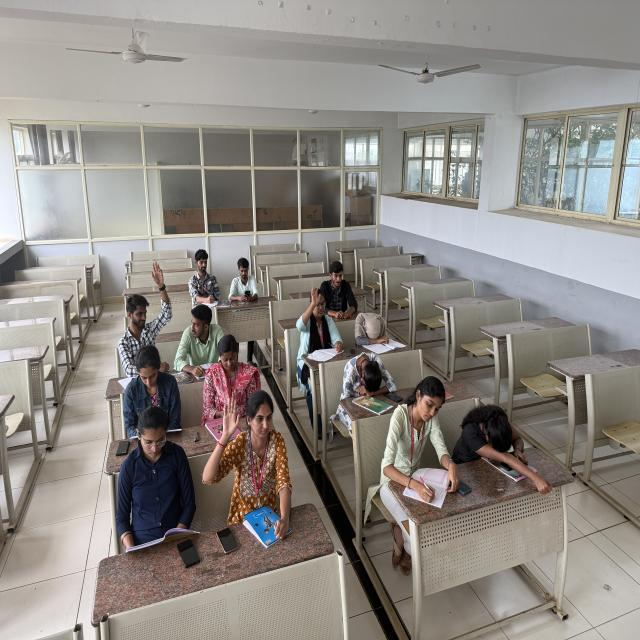Hand Rising: (215, 396, 291, 500), (107, 261, 175, 352), (290, 279, 344, 344)
Reading: (119, 418, 202, 542), (120, 357, 197, 438)
Sleeping: (467, 392, 527, 464), (339, 350, 398, 398), (351, 306, 406, 346)
Using Phone: (228, 254, 265, 308)
Writing: (390, 383, 453, 505), (187, 250, 224, 305)
